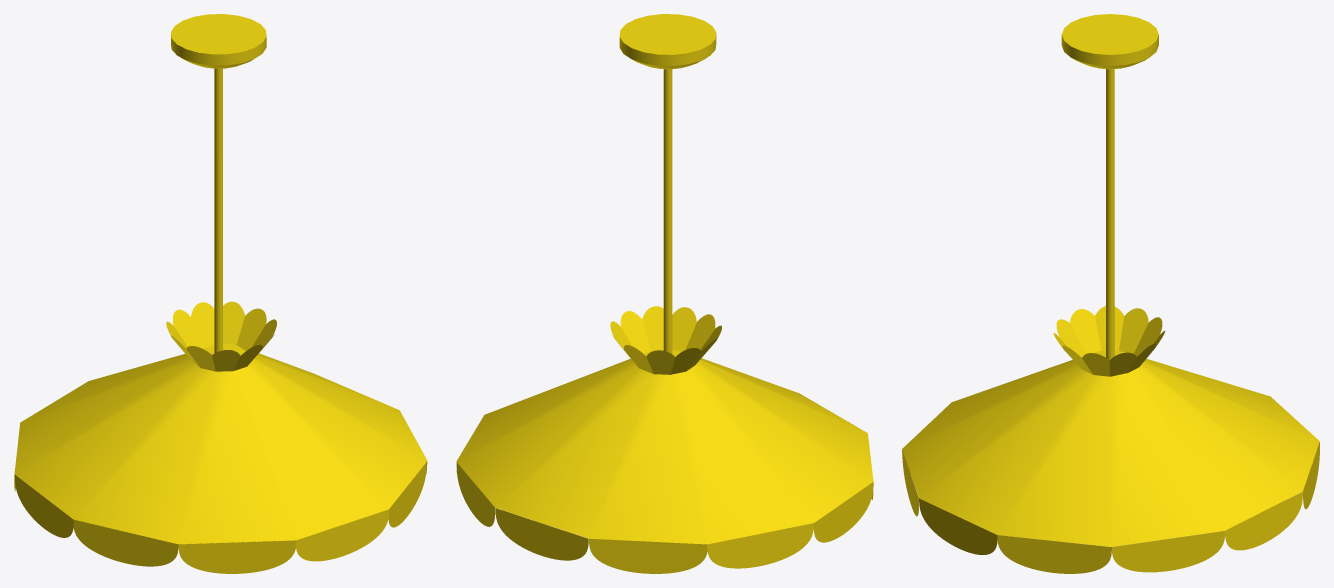
The model's file is lampara.OBJ.
3 renders of one model, left to right at view 1: azimuth 30°, elevation 25°; view 2: azimuth 150°, elevation 25°; view 3: azimuth 270°, elevation 25°, orthographic.
Parts seen in each view (by area): view 1: lampara:pCylinder4; view 2: lampara:pCylinder4; view 3: lampara:pCylinder4.
Part boxes in pixels (x1,y1,x2,y2): lampara:pCylinder4: (14,14,427,573); lampara:pCylinder4: (456,14,873,573); lampara:pCylinder4: (902,14,1319,573).
Size of the model in its own units: 2.12 by 2.6 by 2.14.
